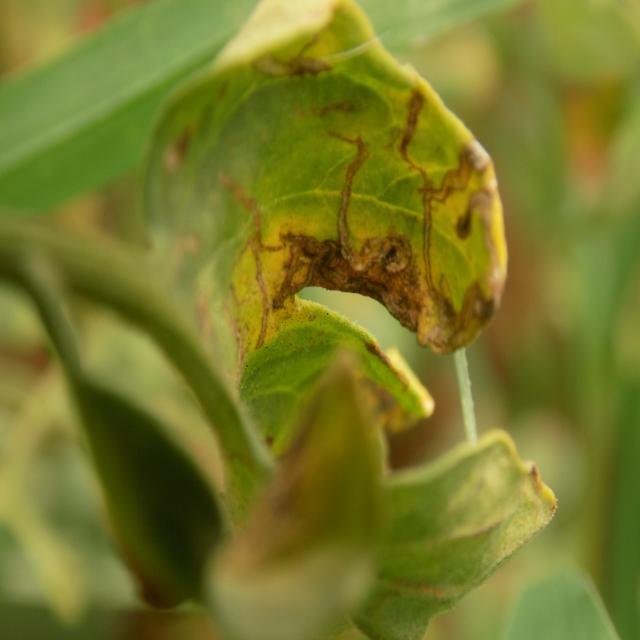tomato_early blight: (124, 9, 511, 434)
